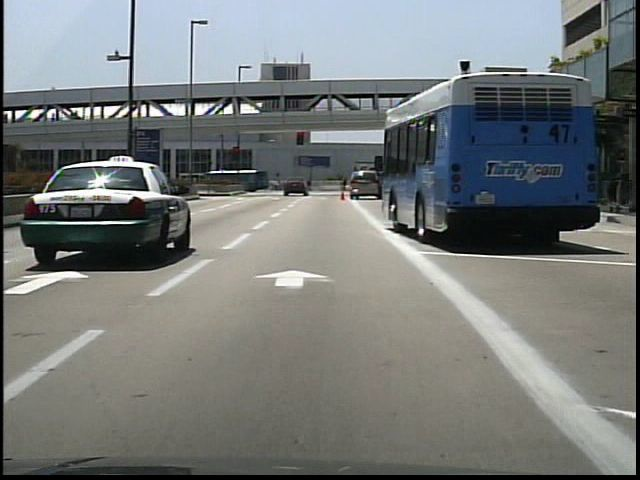person: (340, 176, 350, 192), (305, 178, 315, 193)
